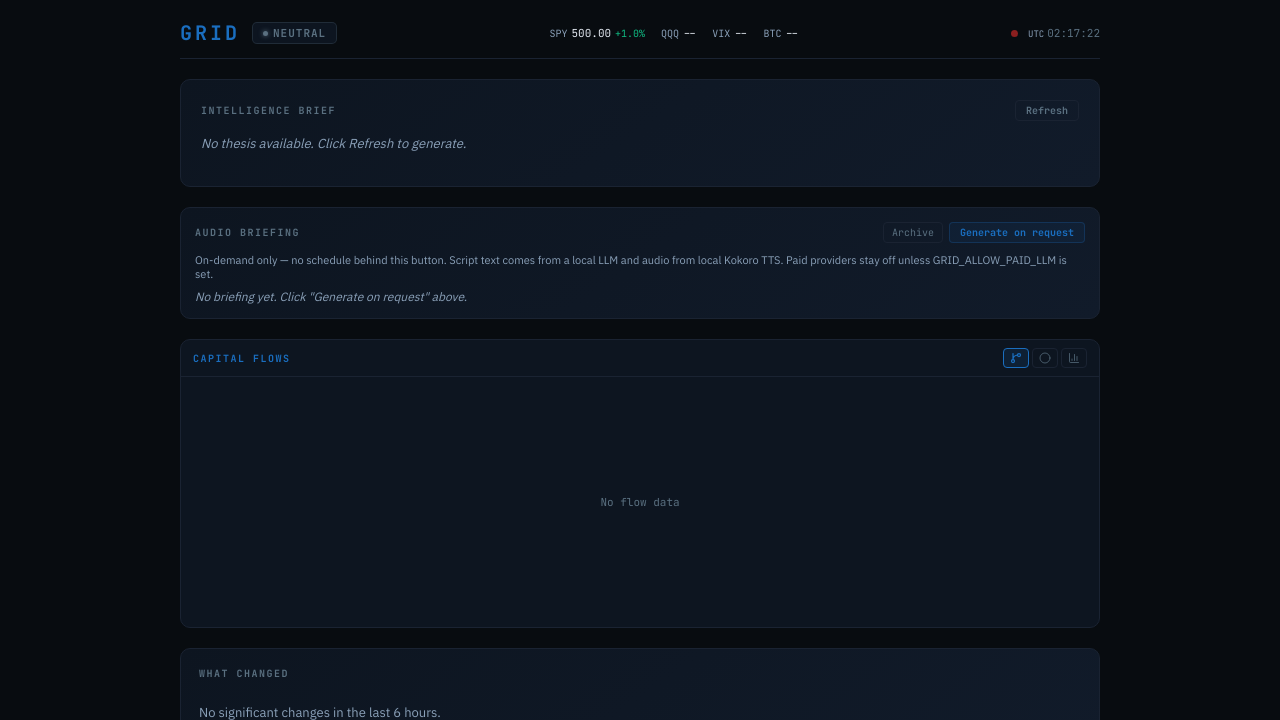
Test case: Dashboard watchlist loading › shows the not-configured note inside a text-only briefing
Step 1. Click the button "Generate on request" → (1017, 232), box left=949, top=222, right=1085, bottom=243
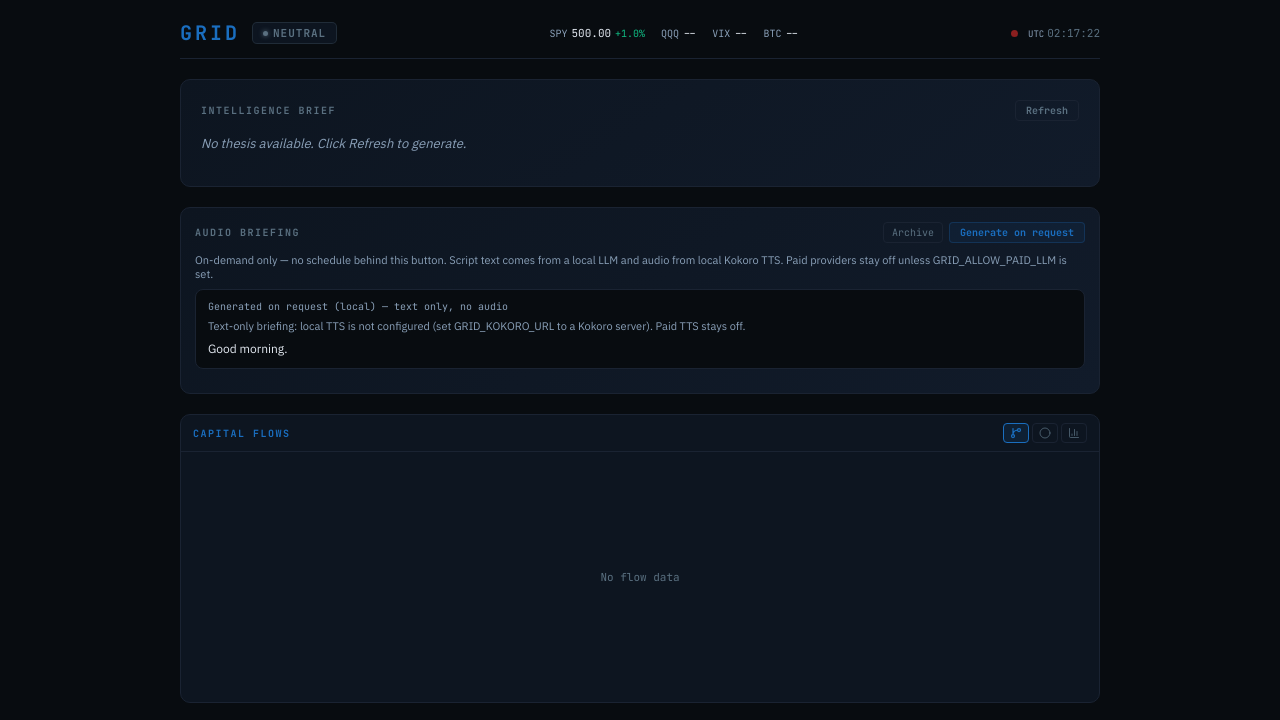
Expected: the text with test id "text-briefing-note" shows "GRID_KOKORO_URL", left=208, top=319, right=746, bottom=333
